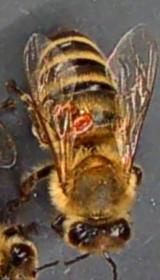varroa_mite: (67, 111, 100, 136)
